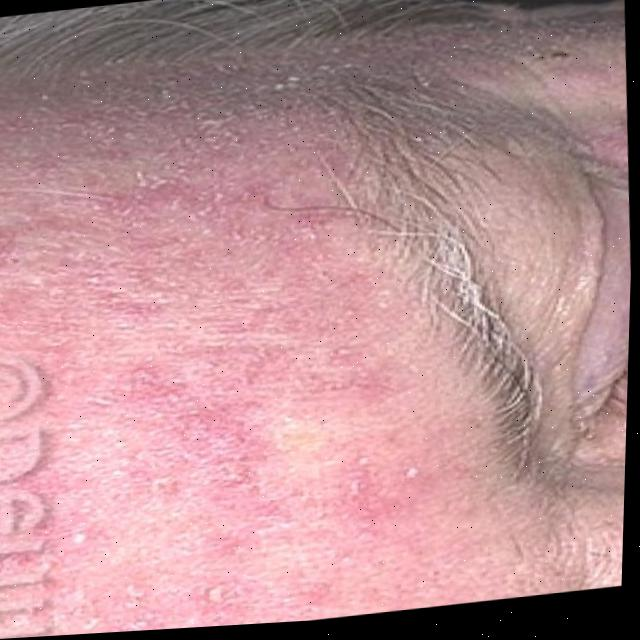Rosacea: (13, 147, 406, 638)
